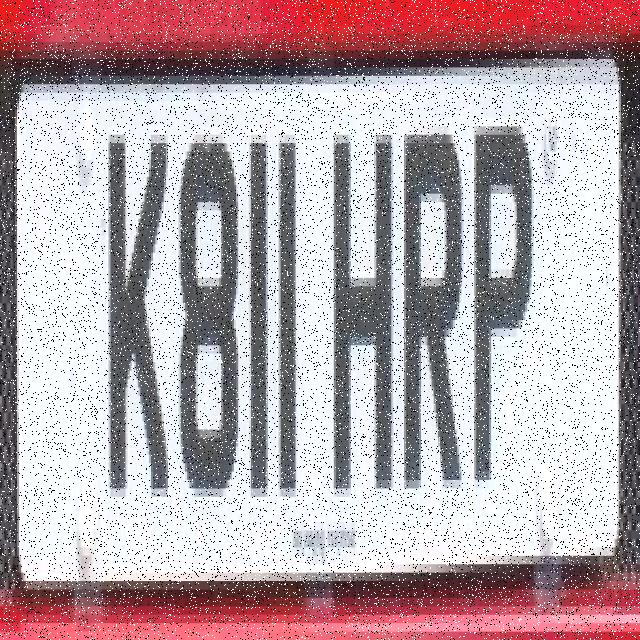licenseplate: (6, 48, 632, 590)
